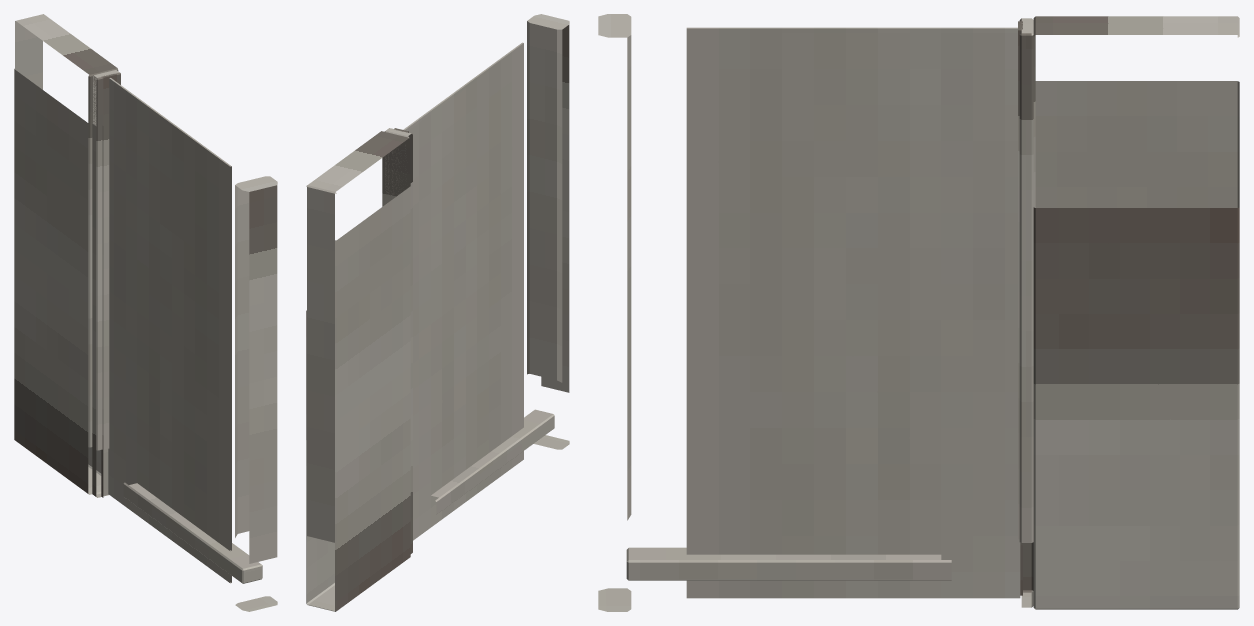
3 renders of one model, left to right at view 1: azimuth 30°, elevation 25°; view 2: azimuth 150°, elevation 25°; view 3: azimuth 270°, elevation 25°, orthographic. The views are drawn at different scales.
Bounding box in the file's own units: 0.088 × 1 × 1.01.
